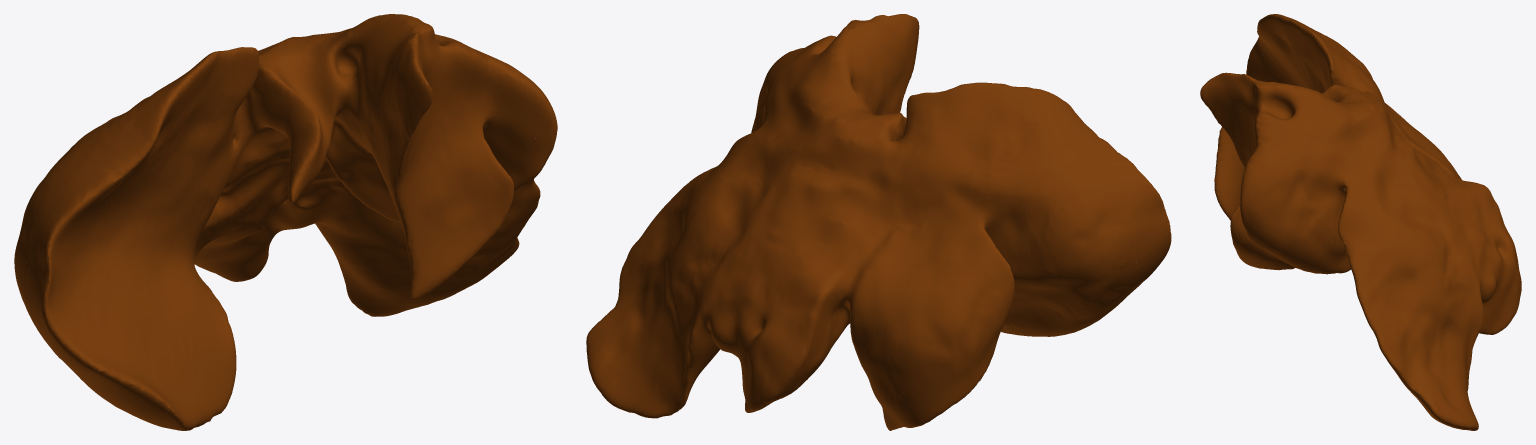
File: cat-liver.glb
The picture shows the model from 3 angles, left to right: view 1: azimuth 30°, elevation 25°; view 2: azimuth 150°, elevation 25°; view 3: azimuth 270°, elevation 25°; orthographic projection. The views are drawn at different scales.
Parts seen in each view (by area): view 1: Object_2, Object_3, Object_4, Object_5; view 2: Object_2, Object_4, Object_3, Object_5; view 3: Object_2, Object_4, Object_3, Object_5.
Boxes of the visible parts, x1=… form: Object_2: x1=14, y1=14, x2=554, y2=430; Object_3: x1=14, y1=45, x2=557, y2=396; Object_4: x1=19, y1=69, x2=540, y2=430; Object_5: x1=14, y1=137, x2=549, y2=357; Object_2: x1=644, y1=14, x2=1168, y2=426; Object_4: x1=587, y1=118, x2=1171, y2=430; Object_3: x1=586, y1=74, x2=1171, y2=429; Object_5: x1=662, y1=160, x2=1165, y2=328; Object_2: x1=1200, y1=14, x2=1500, y2=390; Object_4: x1=1214, y1=61, x2=1521, y2=430; Object_3: x1=1215, y1=37, x2=1490, y2=428; Object_5: x1=1231, y1=56, x2=1498, y2=310.
Size of the model in its own units: 105 by 70.75 by 68.34.
